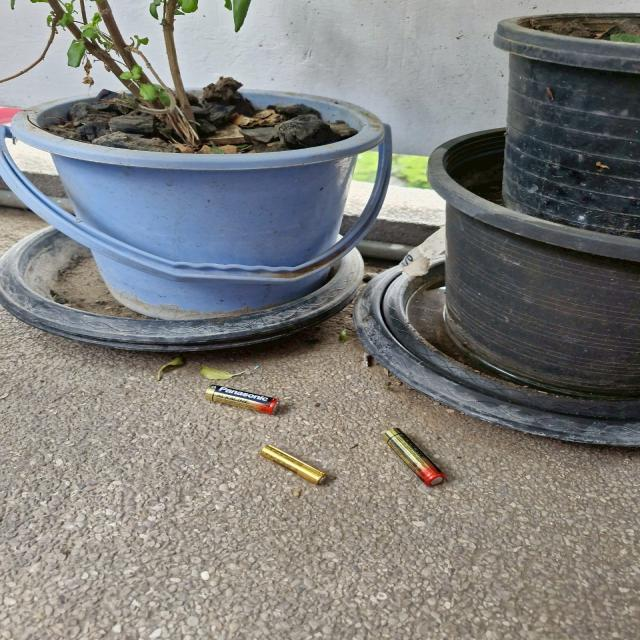battery: (374, 422, 456, 490), (200, 379, 286, 419), (258, 446, 332, 488)
